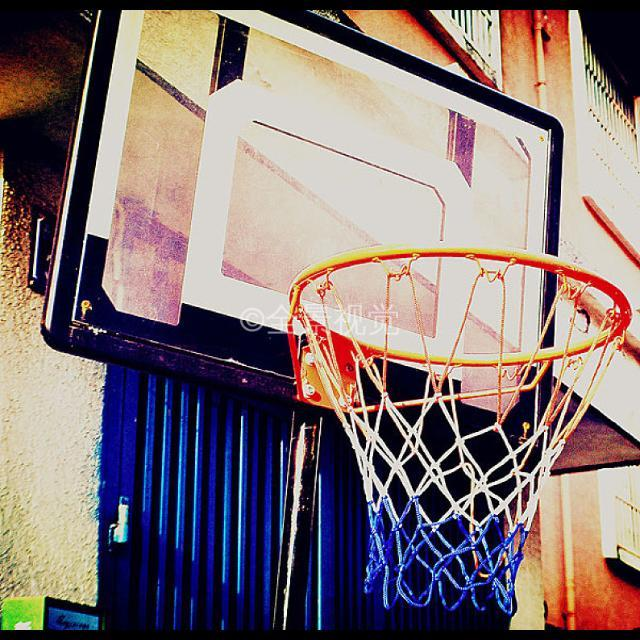rim: (290, 246, 630, 614)
